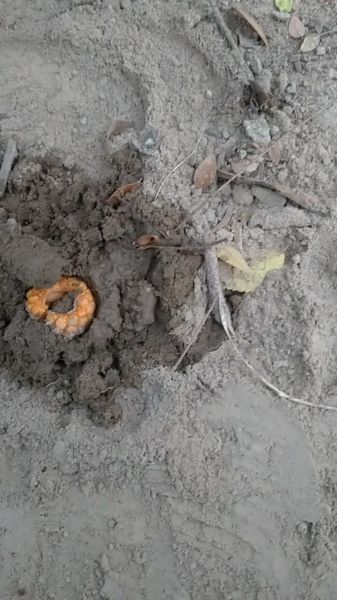eggs: (16, 273, 97, 344)
